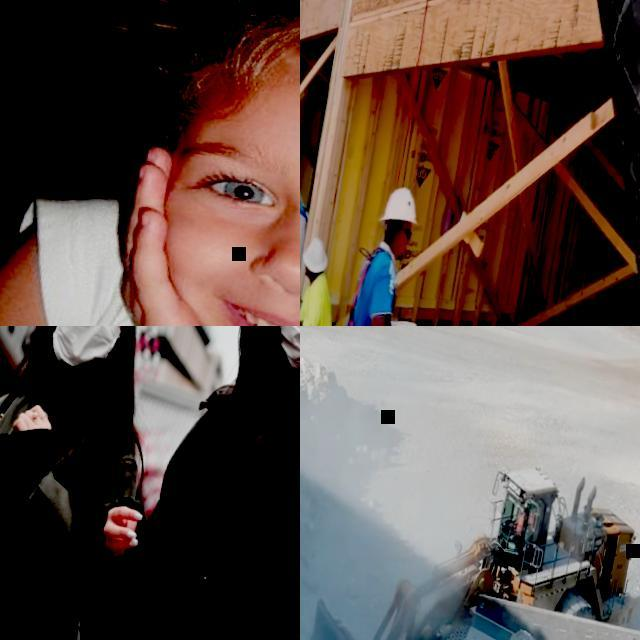Weapon: (8, 19, 306, 321), (338, 140, 514, 324)
objects: (356, 172, 471, 255)
